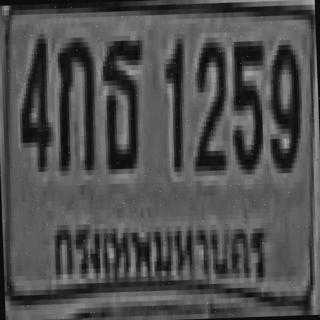A01: (54, 38, 96, 172)
A24: (100, 37, 145, 172)
N01: (163, 37, 187, 170)
N02: (189, 40, 228, 173)
N04: (17, 32, 52, 172)
N05: (230, 39, 268, 173)
N09: (267, 42, 302, 171)
P04: (43, 199, 271, 309)
